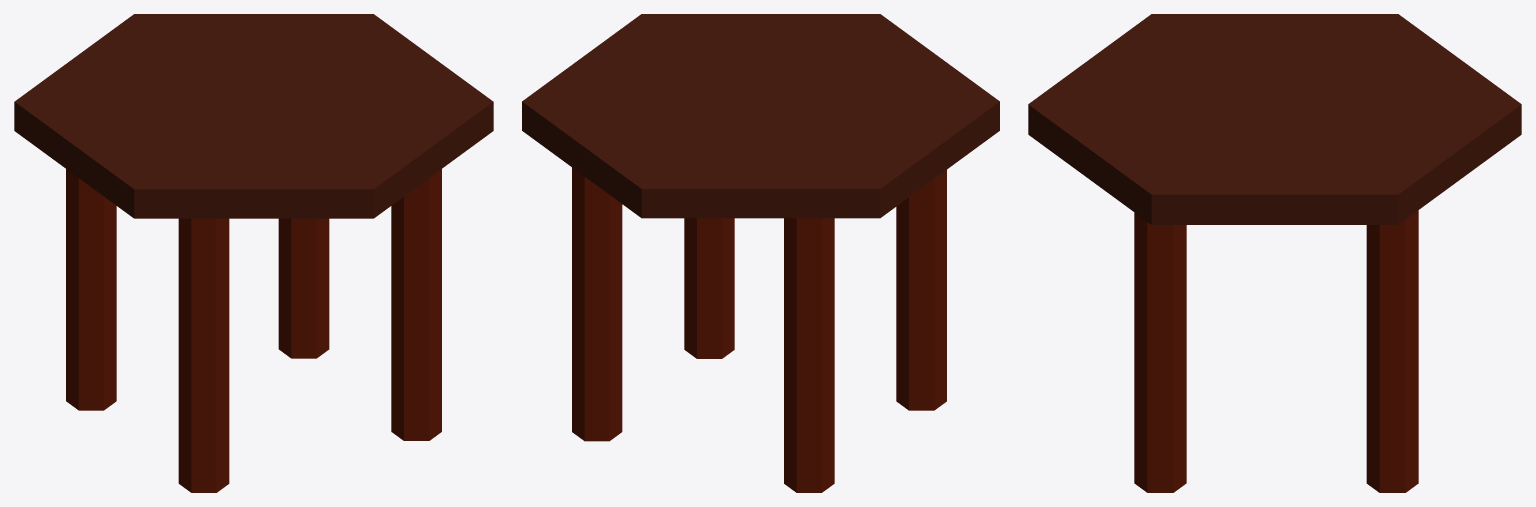
File: CircleTable.fbx
3 renders of one model, left to right at view 1: azimuth 30°, elevation 25°; view 2: azimuth 150°, elevation 25°; view 3: azimuth 270°, elevation 25°, orthographic. The views are drawn at different scales.
Visible parts, largest first — view 1: Cylinder.011, Cylinder.013, Cylinder.015, Cylinder.012, Cylinder.014; view 2: Cylinder.011, Cylinder.012, Cylinder.014, Cylinder.013, Cylinder.015; view 3: Cylinder.011, Cylinder.014, Cylinder.015.
Boxes of the visible parts, x1=… form: Cylinder.011: x1=14, y1=14, x2=493, y2=218; Cylinder.013: x1=178, y1=218, x2=229, y2=492; Cylinder.015: x1=391, y1=169, x2=441, y2=440; Cylinder.012: x1=66, y1=169, x2=116, y2=410; Cylinder.014: x1=278, y1=218, x2=329, y2=358; Cylinder.011: x1=522, y1=14, x2=999, y2=218; Cylinder.012: x1=784, y1=218, x2=834, y2=492; Cylinder.014: x1=572, y1=167, x2=622, y2=441; Cylinder.013: x1=896, y1=170, x2=946, y2=410; Cylinder.015: x1=684, y1=218, x2=734, y2=358; Cylinder.011: x1=1028, y1=14, x2=1521, y2=224; Cylinder.014: x1=1366, y1=210, x2=1418, y2=492; Cylinder.015: x1=1134, y1=212, x2=1186, y2=492.
Bounding box in the file's own units: 793 × 666 × 916.
